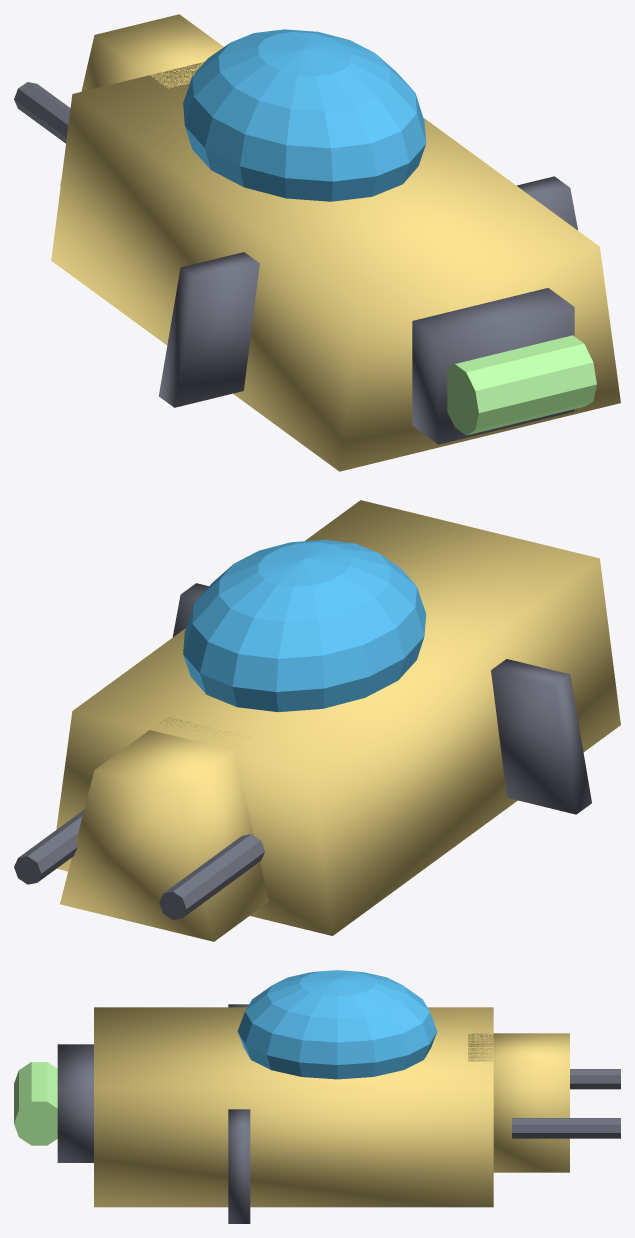
File: ship_graybox_v1.glb
3 renders of one model, top to bottom at view 1: azimuth 30°, elevation 25°; view 2: azimuth 150°, elevation 25°; view 3: azimuth 270°, elevation 25°, orthographic. The views are drawn at different scales.
Parts seen in each view (by area): view 1: Hull, Canopy, WingL, Engine, GlowStrip, Nose, GunL, WingR; view 2: Hull, Canopy, Nose, WingL, GunL, GunR, WingR; view 3: Hull, Canopy, Nose, Engine, GlowStrip, WingR, GunR, GunL.
Boxes of the visible parts, <box> form: Hull: <box>51,61,620,471</box>; Canopy: <box>183,29,426,201</box>; WingL: <box>159,252,259,407</box>; Engine: <box>412,288,574,444</box>; GlowStrip: <box>447,335,596,435</box>; Nose: <box>60,14,223,186</box>; GunL: <box>14,82,70,143</box>; WingR: <box>517,176,577,230</box>; Hull: <box>56,500,620,935</box>; Canopy: <box>183,539,426,712</box>; Nose: <box>60,717,268,941</box>; WingL: <box>491,659,591,814</box>; GunL: <box>159,834,264,919</box>; GunR: <box>14,810,83,884</box>; WingR: <box>172,583,208,637</box>; Hull: <box>94,1007,493,1207</box>; Canopy: <box>237,970,437,1079</box>; Nose: <box>468,1033,569,1172</box>; Engine: <box>57,1044,93,1162</box>; GlowStrip: <box>14,1062,57,1145</box>; WingR: <box>228,1109,250,1223</box>; GunR: <box>512,1118,620,1138</box>; GunL: <box>570,1069,620,1089</box>.
Size of the model in its own units: 0.92 by 0.5484 by 1.67.
